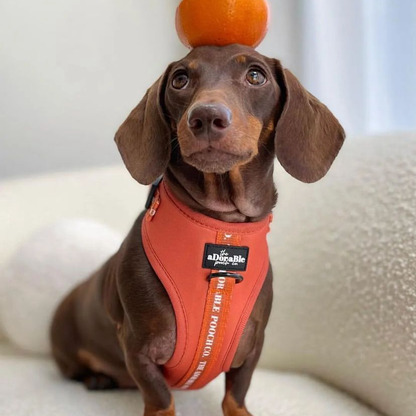dachshund: (78, 29, 348, 399)
